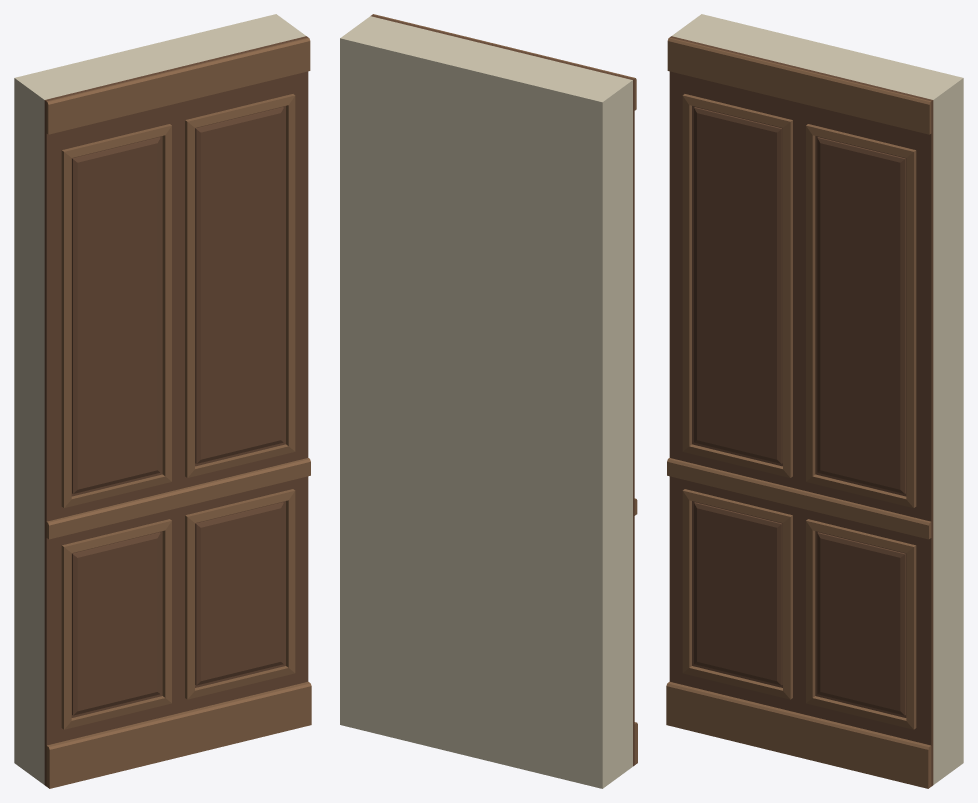
The model's file is rpg-mansion-paneled-wall-bay-01.glb.
3 views of the same model, side by side, from view 1: azimuth 30°, elevation 25°; view 2: azimuth 150°, elevation 25°; view 3: azimuth 330°, elevation 25° (orthographic).
Visible parts, largest first — view 1: rpg-mansion-paneled-wall-bay-01; view 2: rpg-mansion-paneled-wall-bay-01; view 3: rpg-mansion-paneled-wall-bay-01.
Boxes of the visible parts, box(x1,y1,x2,y2) form: rpg-mansion-paneled-wall-bay-01: box(14, 14, 311, 788); rpg-mansion-paneled-wall-bay-01: box(340, 14, 637, 788); rpg-mansion-paneled-wall-bay-01: box(666, 14, 963, 788).
Size of the model in its own units: 1.2 by 3 by 0.28.
